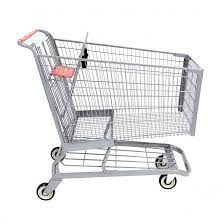with_basket: (20, 29, 200, 198)
